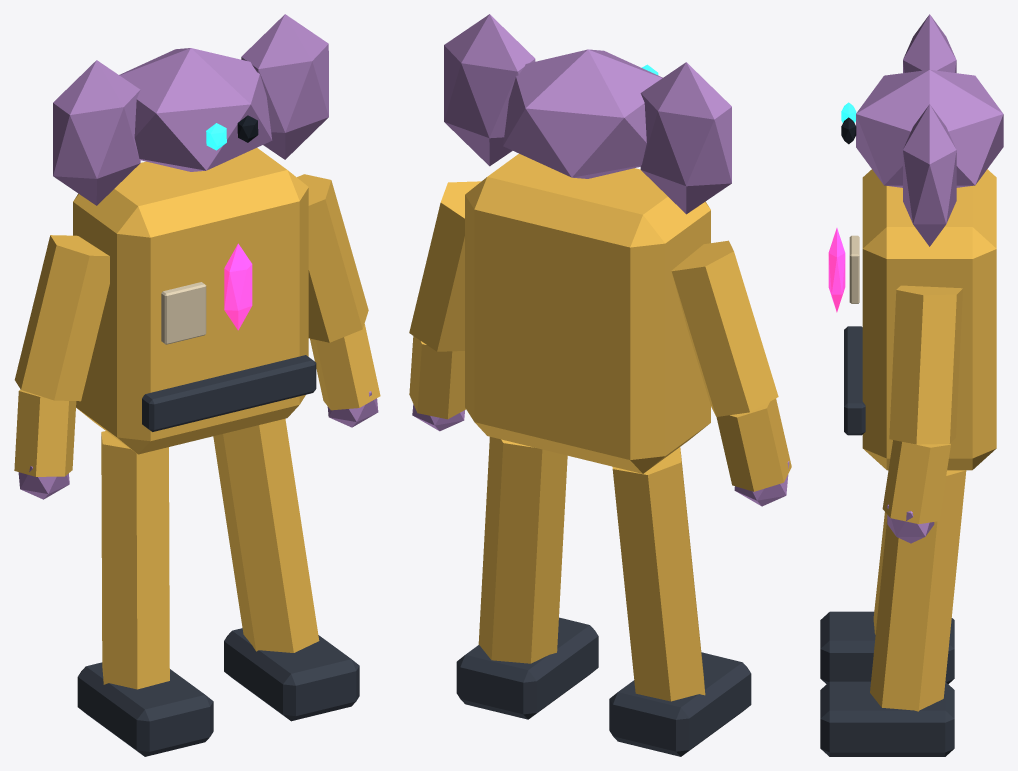
The model's file is npcs_019_seed11.glb.
The picture shows the model from 3 angles, left to right: view 1: azimuth 30°, elevation 25°; view 2: azimuth 150°, elevation 25°; view 3: azimuth 270°, elevation 25°; orthographic projection. The views are drawn at different scales.
Visible parts, largest first — view 1: npcs_019_seed11; view 2: npcs_019_seed11; view 3: npcs_019_seed11.
Part boxes in pixels (bbox=[...]): npcs_019_seed11: bbox=[14, 14, 380, 756]; npcs_019_seed11: bbox=[409, 14, 791, 756]; npcs_019_seed11: bbox=[820, 14, 1003, 756].
Size of the model in its own units: 0.866 by 1.52 by 0.3908.
